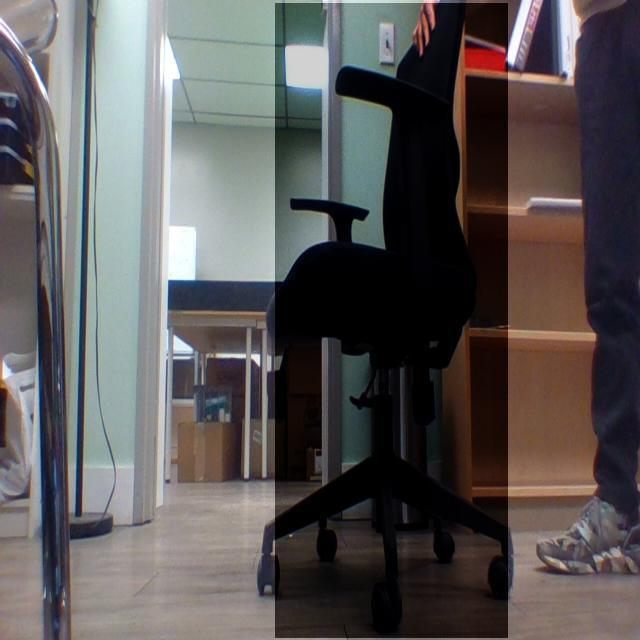chair: (253, 0, 523, 640)
